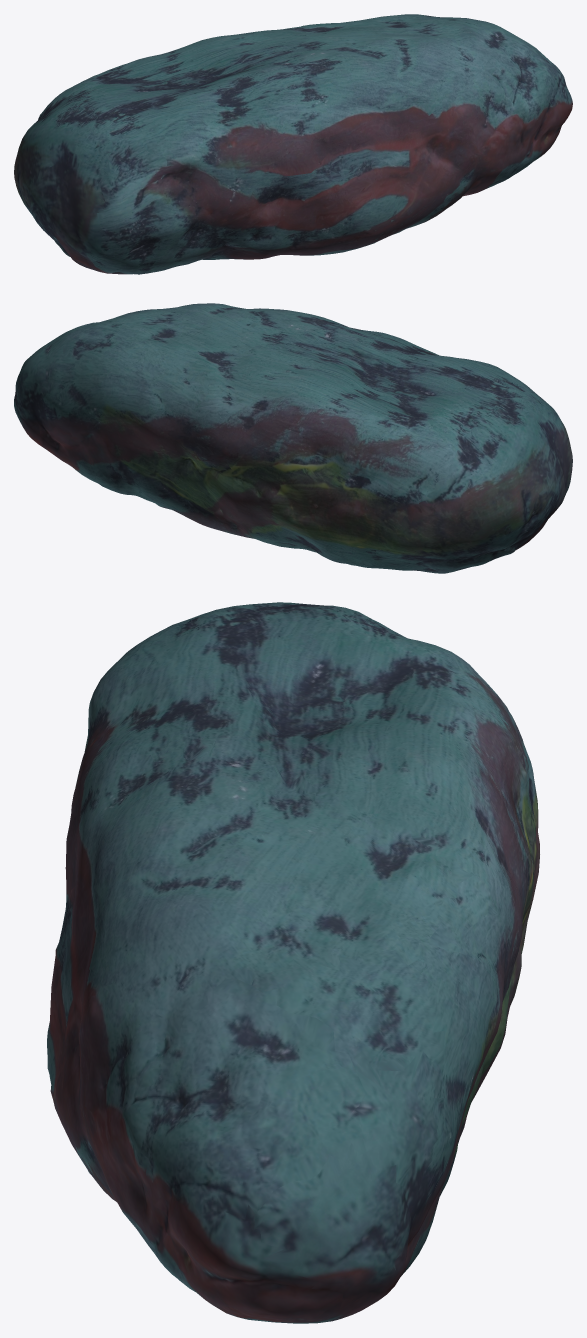
File: Victor_Car.glb
3 views of the same model, one above another, from view 1: azimuth 30°, elevation 25°; view 2: azimuth 150°, elevation 25°; view 3: azimuth 270°, elevation 25° (orthographic). The views are drawn at different scales.
Parts seen in each view (by area): view 1: Victor_Car; view 2: Victor_Car; view 3: Victor_Car.
Part boxes in pixels (<box>): Victor_Car: <box>14,14,572,274</box>; Victor_Car: <box>14,303,572,573</box>; Victor_Car: <box>47,602,539,1323</box>.
Size of the model in its own units: 1.82 by 0.6009 by 0.7358.
Materials: 1 (1 with a texture image).
